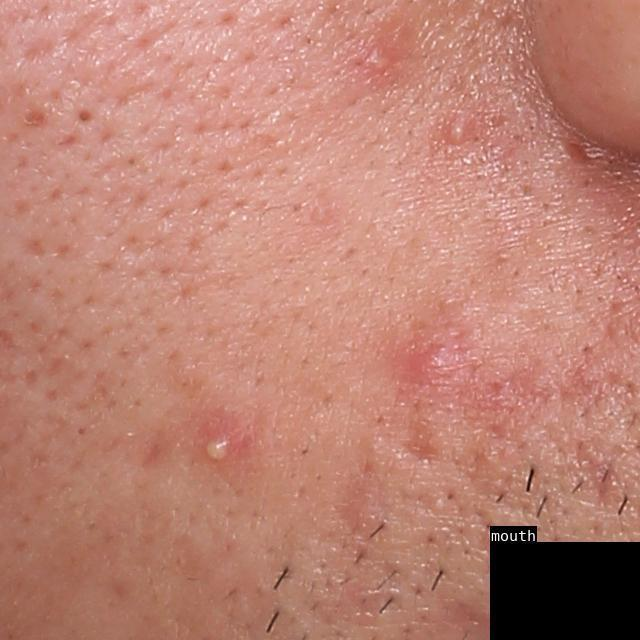atrophic_scar: (568, 430, 618, 505), (387, 417, 441, 467)
comedo: (74, 111, 97, 128)
papule: (406, 339, 464, 399)
pustule: (363, 48, 394, 77), (204, 432, 230, 464), (443, 121, 470, 147)
